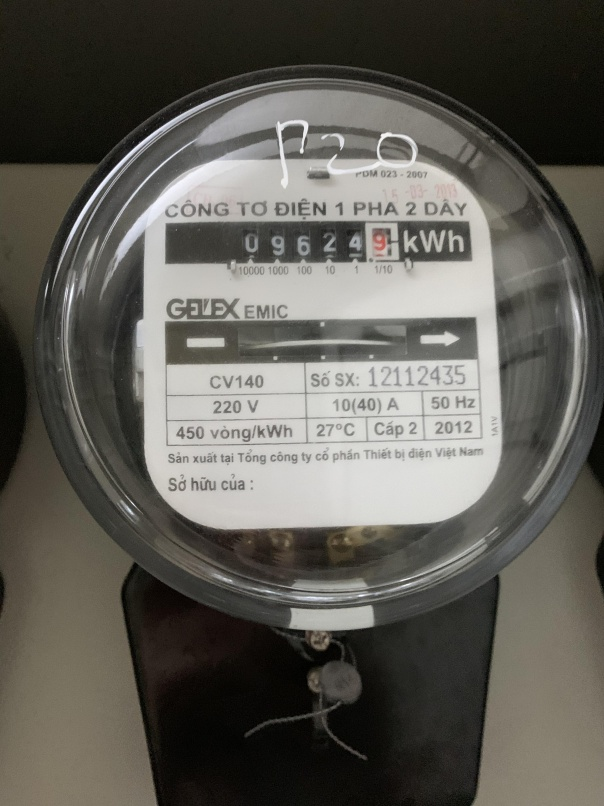counter: (162, 217, 476, 265)
electricity_meter: (36, 66, 600, 631)
